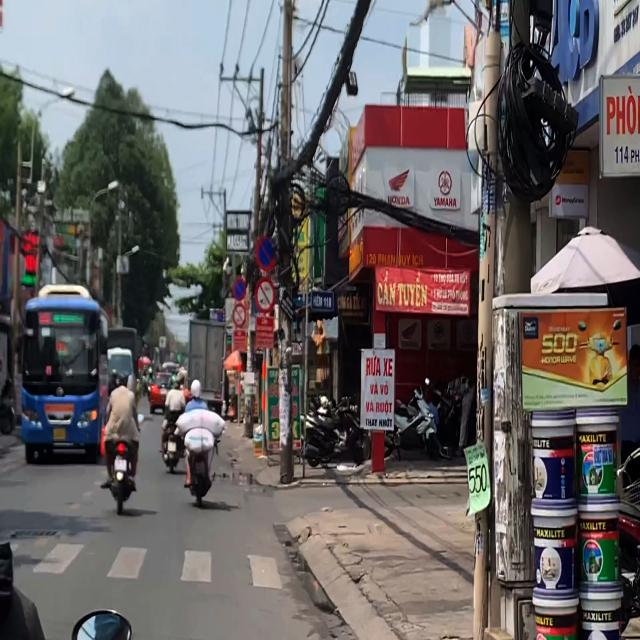Cam con lai: (254, 276, 276, 313), (232, 301, 247, 329)
Cam do: (255, 236, 276, 272), (232, 278, 246, 302)
